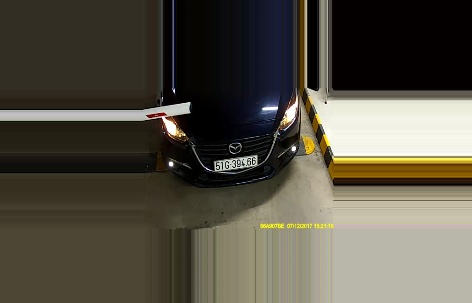plate: (210, 153, 261, 174)
